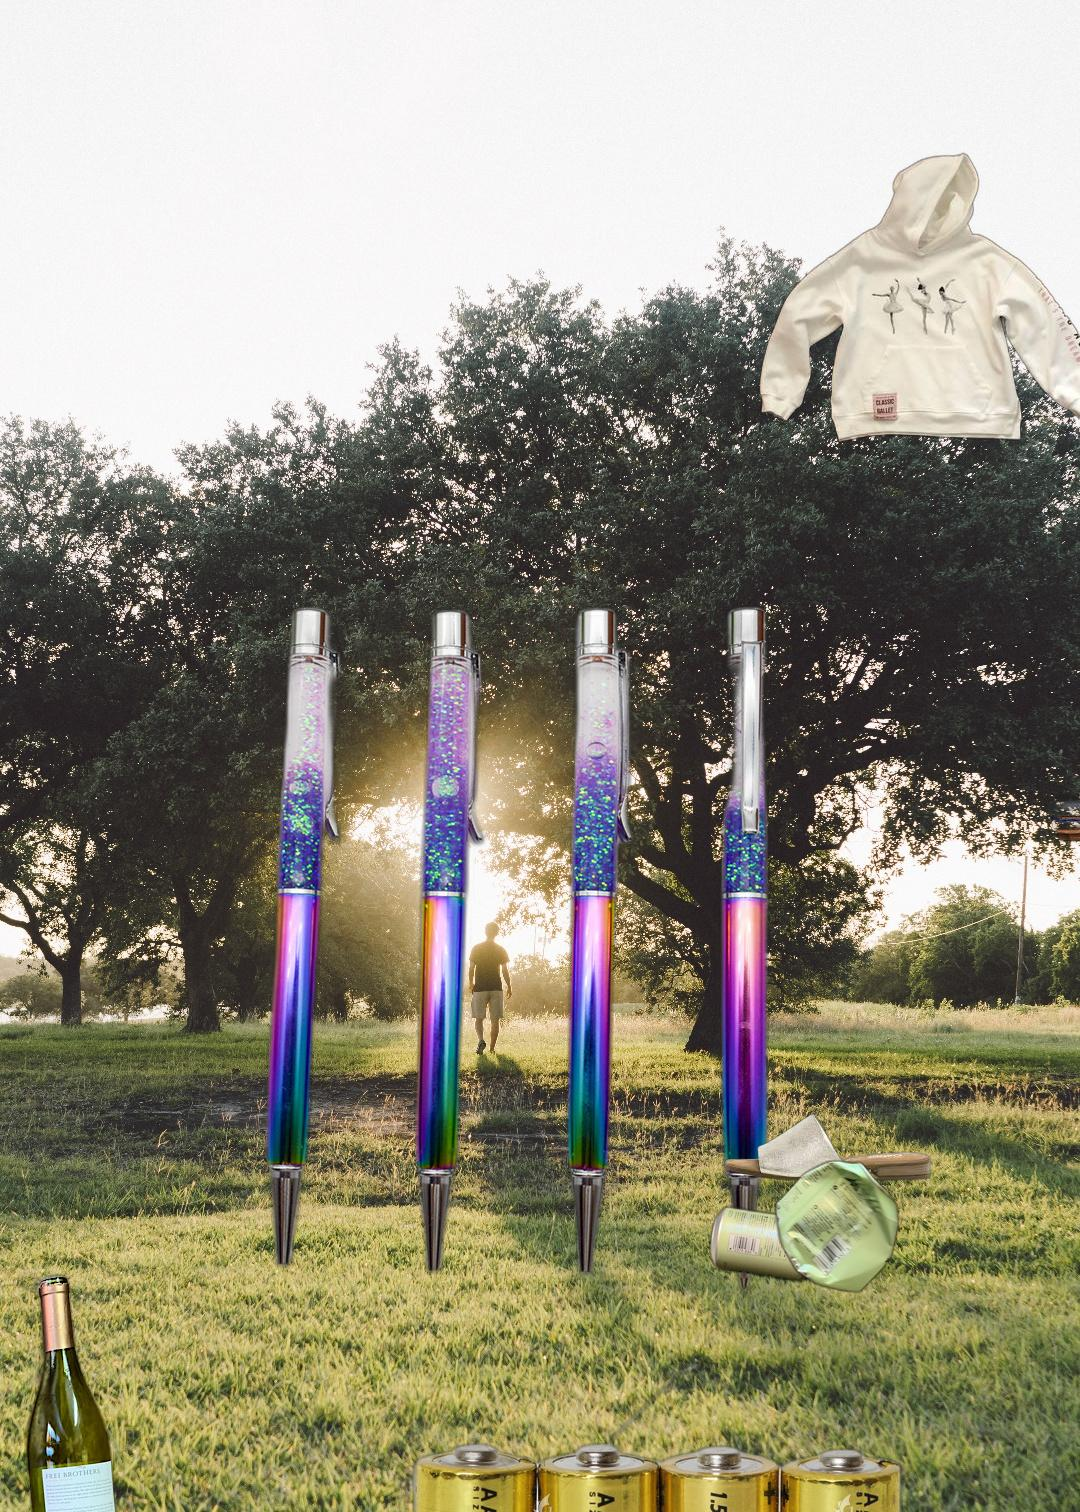battery: (404, 1355, 909, 1512)
clothes: (756, 150, 1080, 446)
glass: (4, 1270, 125, 1512)
metal-cans: (770, 1154, 904, 1298), (706, 1200, 830, 1288)
penholder: (258, 598, 775, 1298)
shoes: (721, 1111, 933, 1182)
trashbox-cardboard: (929, 703, 1080, 960)
